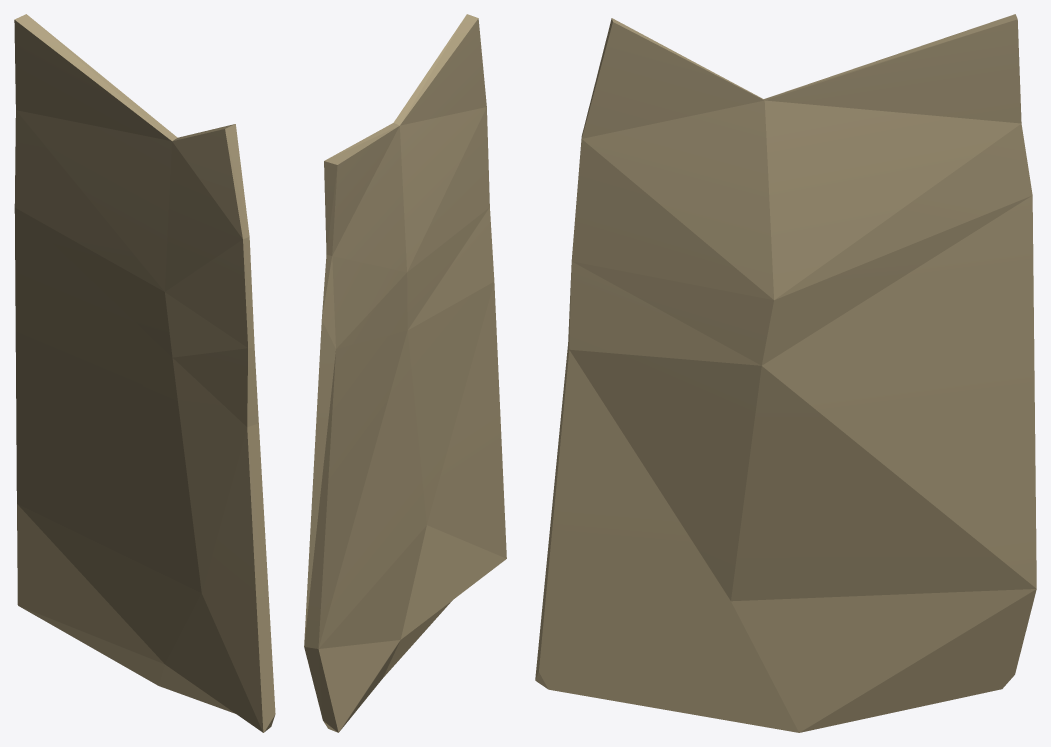
Rendered from Cloth_Grey.gltf.
The picture shows the model from 3 angles, left to right: view 1: azimuth 30°, elevation 25°; view 2: azimuth 150°, elevation 25°; view 3: azimuth 270°, elevation 25°; orthographic projection. The views are drawn at different scales.
Visible parts, largest first — view 1: Cloth_Grey; view 2: Cloth_Grey; view 3: Cloth_Grey.
Part boxes in pixels (x1,y1,x2,y2): Cloth_Grey: [14, 14, 275, 732]; Cloth_Grey: [304, 14, 506, 732]; Cloth_Grey: [535, 14, 1036, 732].
Size of the model in its own units: 0.0743 by 0.5675 by 0.3641.
1 material, 1 textured.
